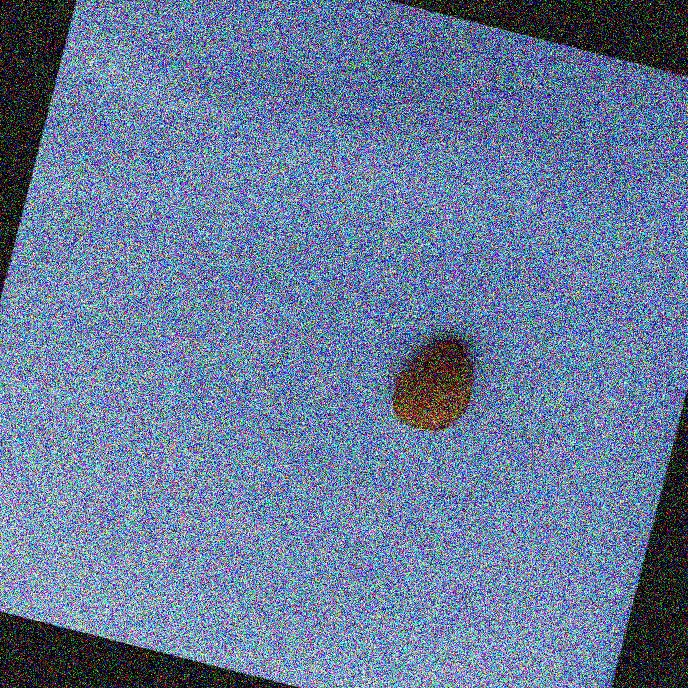grade2: (379, 323, 488, 444)
